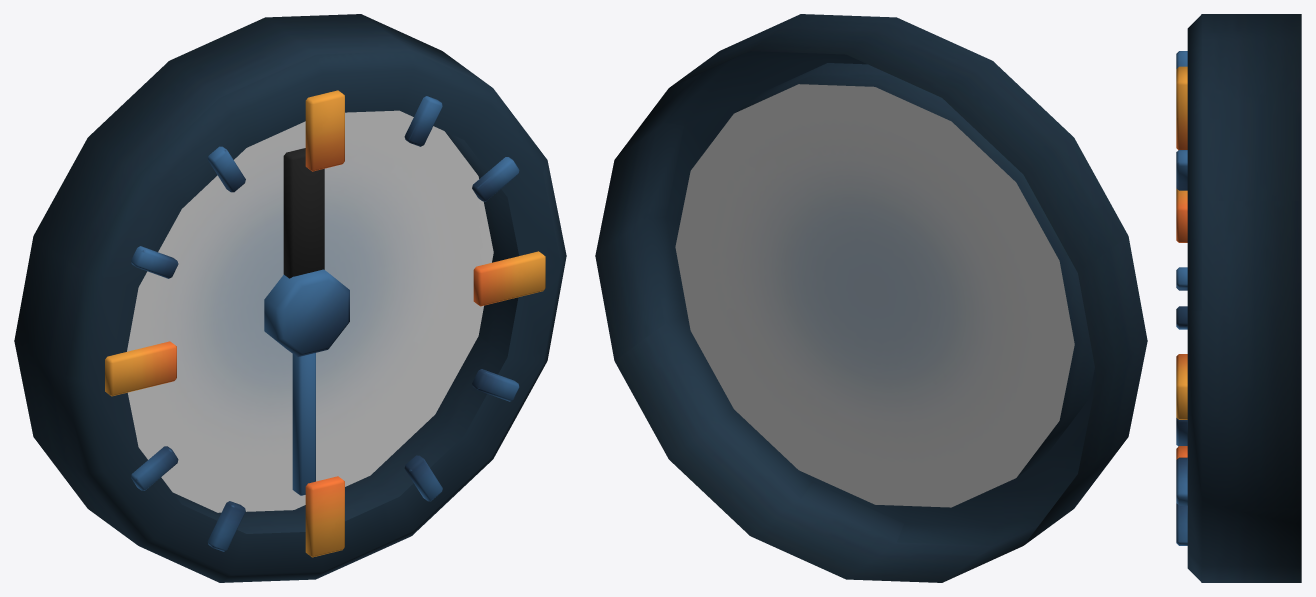
The model's file is Clock.fbx.
3 renders of one model, left to right at view 1: azimuth 30°, elevation 25°; view 2: azimuth 150°, elevation 25°; view 3: azimuth 270°, elevation 25°, orthographic.
Visible parts, largest first — view 1: Clock.001, Clock.002, Clock.006, Clock.005, Clock.007, Clock.003, Clock.008, Clock.009, Clock.013, Clock.004, Clock.010, Clock.014 (+4 smaller); view 2: Clock.001; view 3: Clock.001, Clock.003, Clock.007, Clock.009, Clock.011, Clock.012, Clock.004, Clock.013, Clock.010, Clock.014, Clock.016.
Boxes of the visible parts, x1=… form: Clock.001: x1=14, y1=14, x2=566, y2=582; Clock.002: x1=264, y1=269, x2=349, y2=356; Clock.006: x1=283, y1=148, x2=324, y2=278; Clock.005: x1=292, y1=353, x2=315, y2=495; Clock.007: x1=473, y1=251, x2=545, y2=306; Clock.003: x1=305, y1=90, x2=344, y2=171; Clock.008: x1=305, y1=476, x2=344, y2=557; Clock.009: x1=105, y1=341, x2=176, y2=396; Clock.013: x1=207, y1=501, x2=245, y2=551; Clock.004: x1=404, y1=96, x2=442, y2=146; Clock.010: x1=472, y1=157, x2=519, y2=201; Clock.014: x1=131, y1=446, x2=178, y2=490; Clock.001: x1=595, y1=14, x2=1147, y2=582; Clock.001: x1=1187, y1=14, x2=1301, y2=582; Clock.003: x1=1176, y1=66, x2=1187, y2=149; Clock.007: x1=1176, y1=354, x2=1187, y2=419; Clock.009: x1=1176, y1=188, x2=1187, y2=242; Clock.011: x1=1176, y1=457, x2=1187, y2=505; Clock.012: x1=1176, y1=503, x2=1187, y2=545; Clock.004: x1=1176, y1=150, x2=1187, y2=190; Clock.013: x1=1176, y1=418, x2=1187, y2=446; Clock.010: x1=1176, y1=267, x2=1187, y2=290; Clock.014: x1=1176, y1=306, x2=1187, y2=329; Clock.016: x1=1176, y1=51, x2=1187, y2=68.
Size of the model in its own units: 0.2296 by 1.04 by 1.04.
